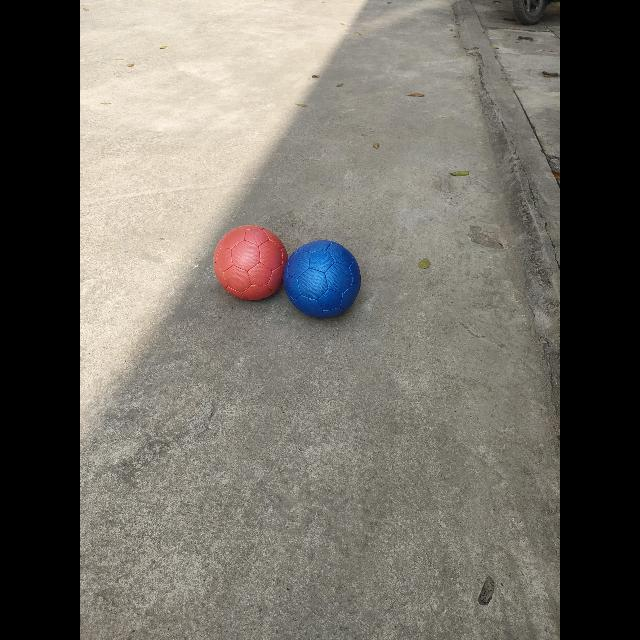B: (283, 240, 362, 321)
R: (212, 226, 289, 304)
